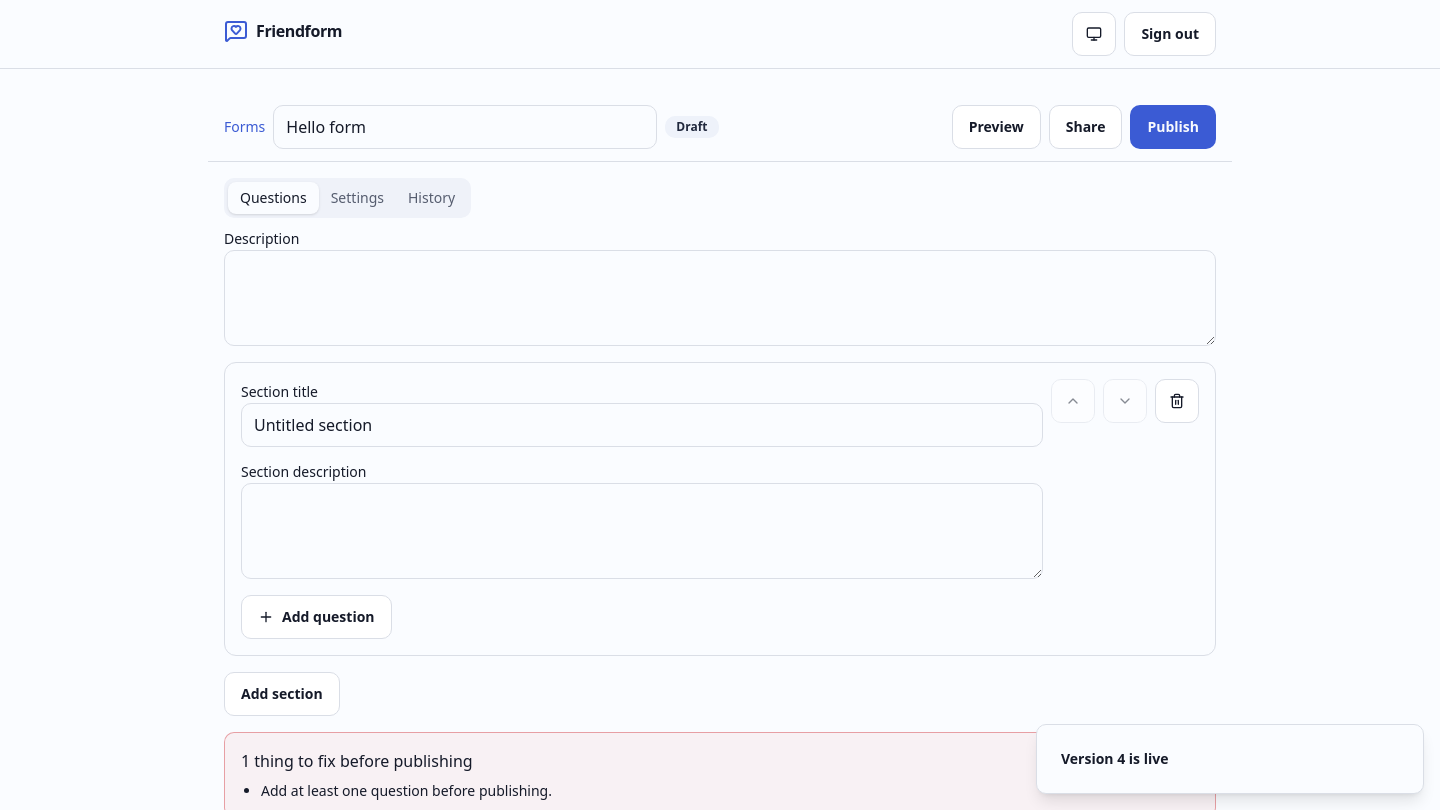
Test: EditorPage › restores a version into the draft
Click the tab "History". click: (432, 198)
box: [396, 182, 467, 214]
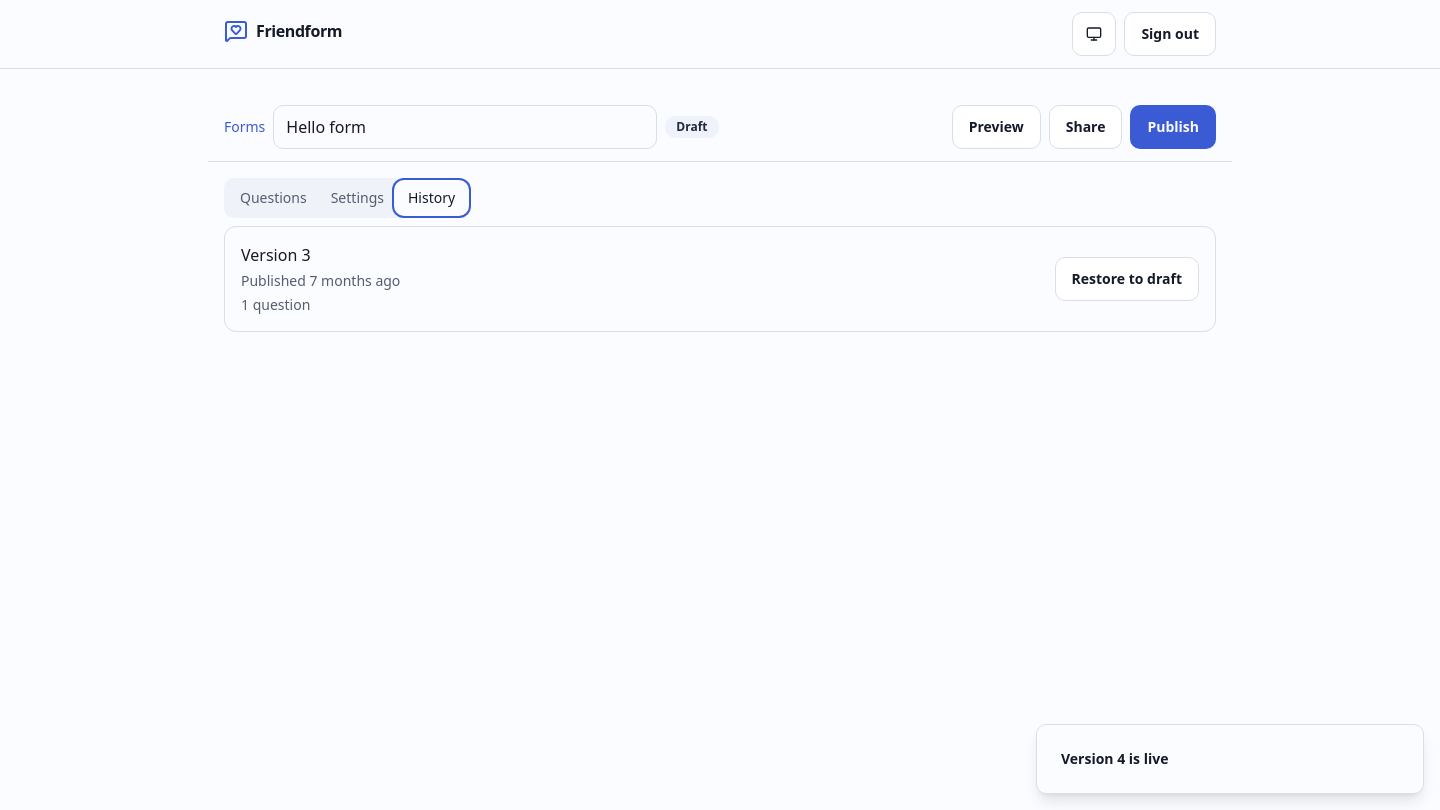
Expected: the text "Version 3" is shown, [241, 244, 311, 266]
Expected: the text "1 question" is shown, [241, 295, 310, 314]
Click the button "Restore to draft". click: (1127, 279)
box: [1054, 257, 1199, 301]
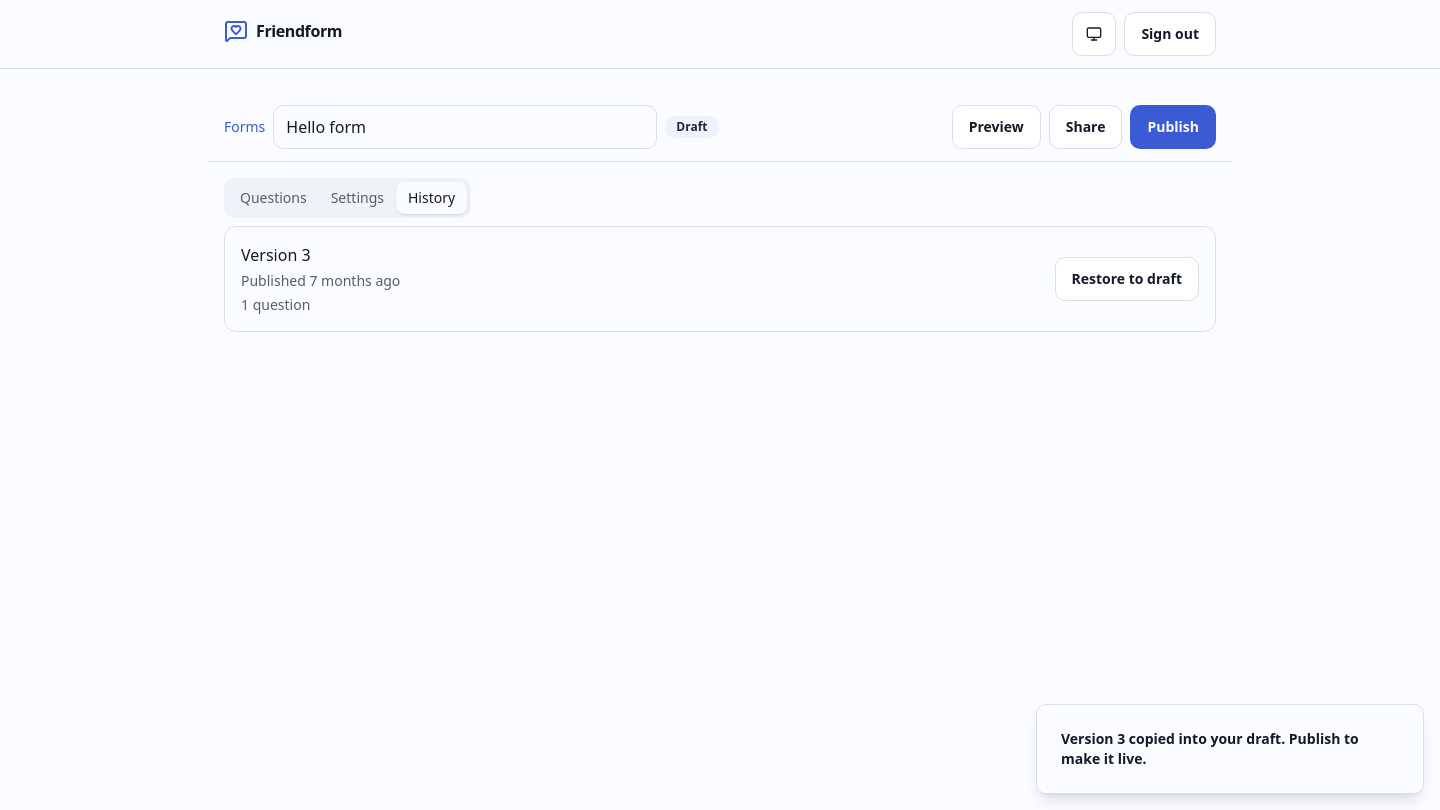
Expected: the text "Version 3 copied into your draft. Publish to make it live." is shown, [1061, 729, 1375, 769]
Click the tab "Questions". click: (273, 198)
box: [228, 182, 319, 214]
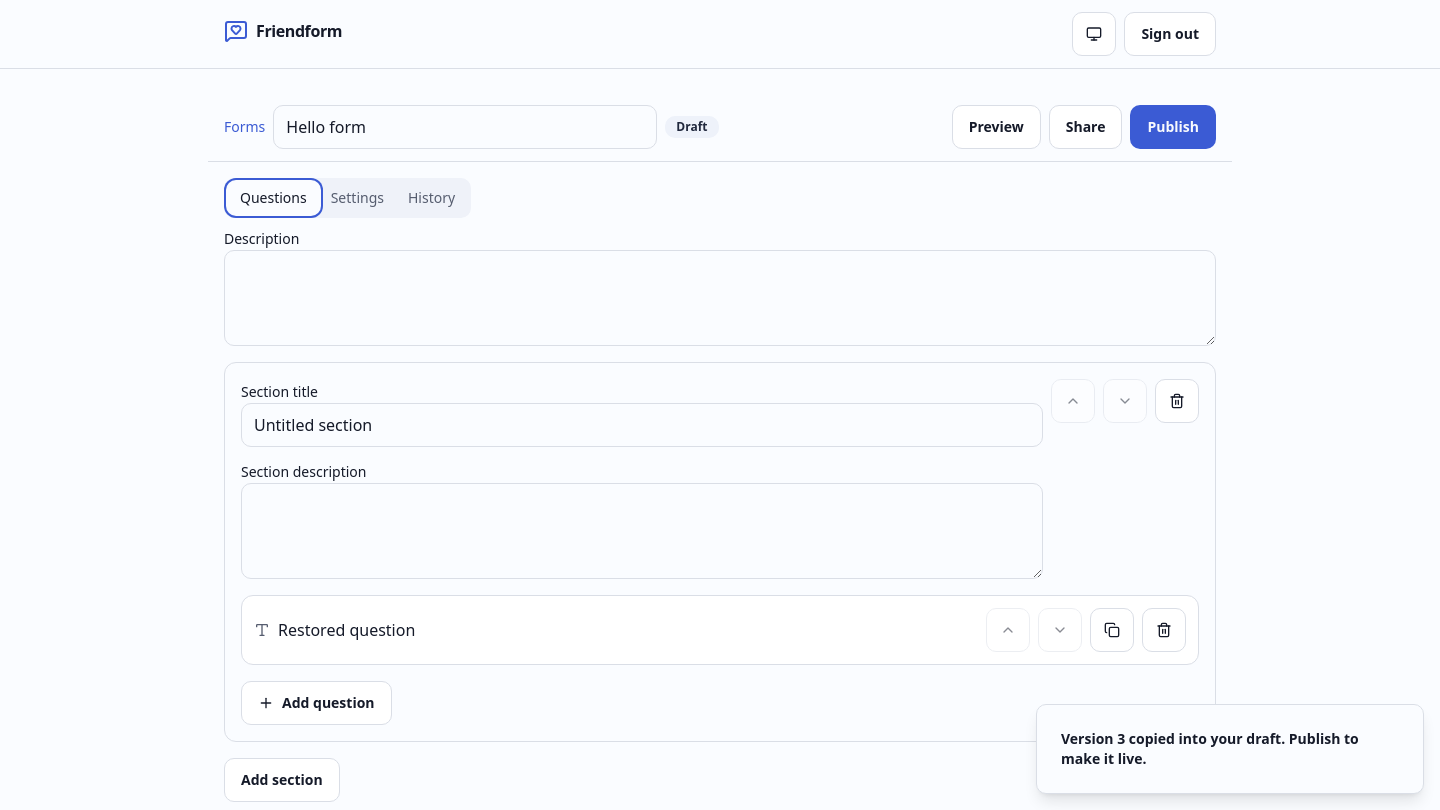
Expected: the text "Restored question" is shown, [278, 618, 415, 642]
